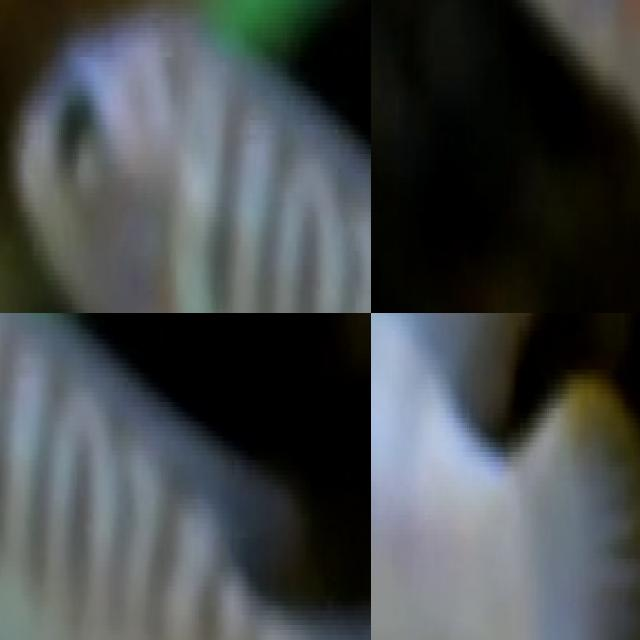fish: (0, 0, 371, 313), (458, 0, 640, 313)
